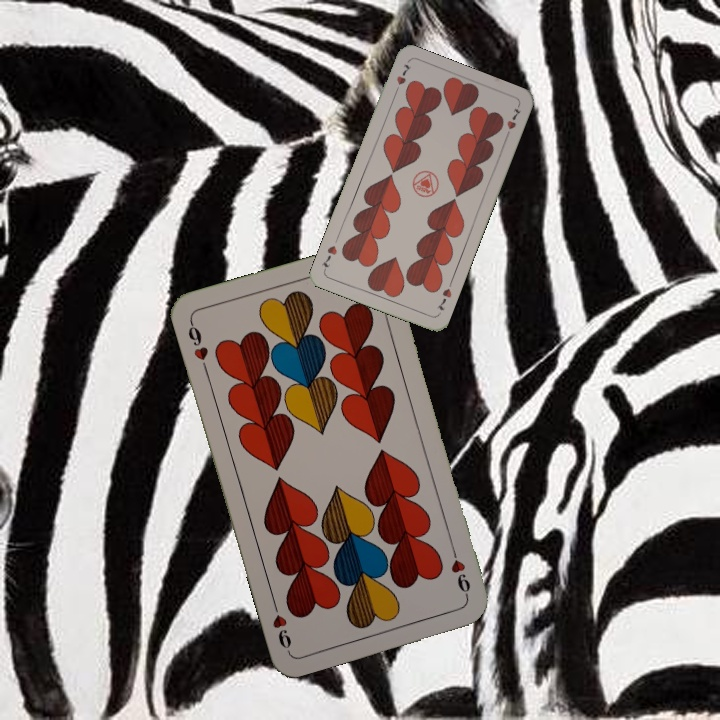H7: (390, 60, 414, 97), (433, 284, 454, 313)
H9: (184, 317, 211, 374), (447, 542, 473, 600)
